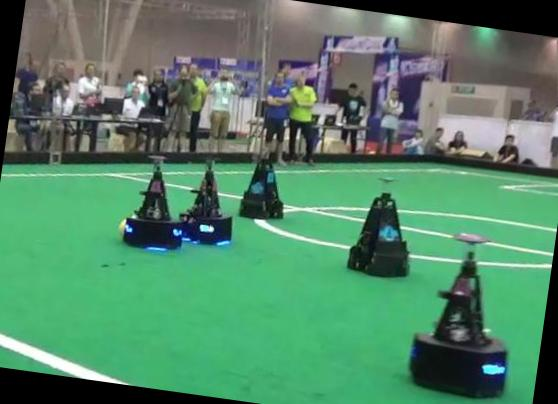person: (290, 74, 317, 163), (265, 72, 290, 159)
robot: (410, 251, 506, 396), (121, 165, 182, 249), (347, 192, 408, 275), (180, 160, 232, 244), (239, 158, 283, 218)
